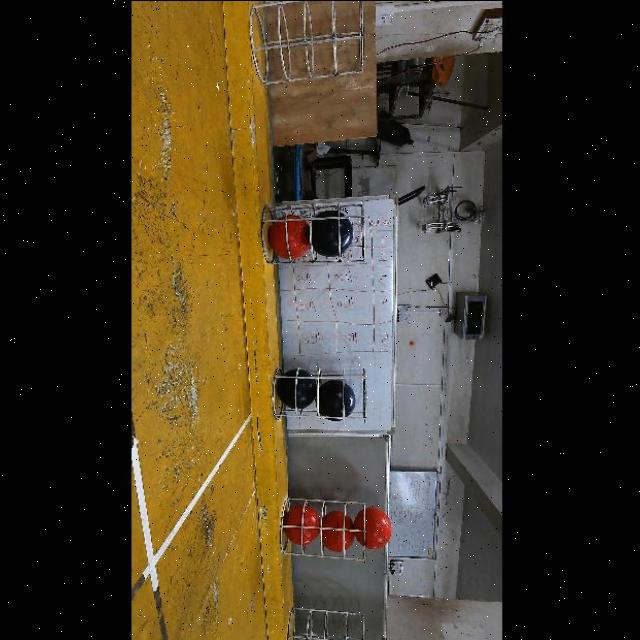P: (311, 208, 354, 257), (275, 368, 316, 409), (318, 378, 355, 421)
R: (267, 218, 310, 258), (353, 506, 391, 548), (283, 503, 319, 545), (322, 511, 354, 552)
S: (248, 0, 372, 92), (264, 198, 370, 268), (274, 360, 374, 426), (280, 494, 370, 562), (288, 596, 372, 640)
